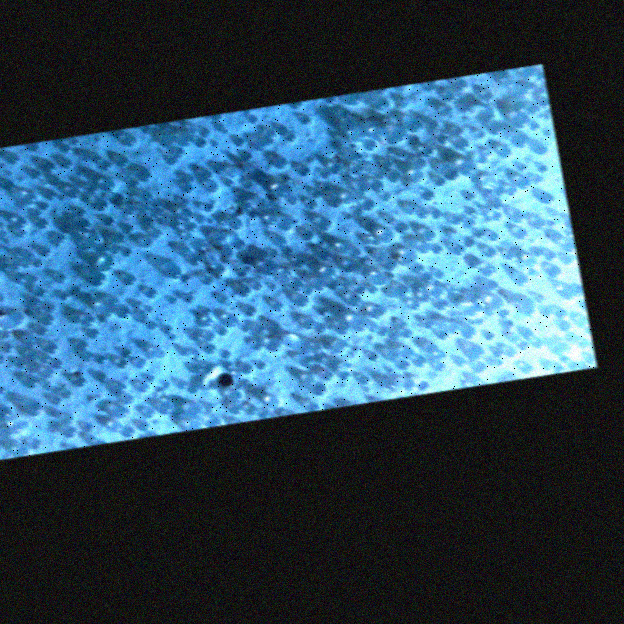GrassBeadSeg: (87, 102, 527, 438), (3, 87, 387, 443), (31, 177, 530, 449), (0, 127, 465, 418), (36, 122, 503, 411), (0, 154, 541, 393), (2, 94, 495, 353), (81, 121, 568, 361), (51, 165, 510, 406), (0, 160, 425, 417), (163, 91, 523, 388), (0, 143, 575, 328), (74, 115, 531, 346), (61, 127, 443, 398), (39, 184, 531, 390), (111, 139, 470, 417), (41, 162, 549, 354), (159, 135, 572, 362), (2, 192, 547, 363), (75, 125, 505, 340), (170, 152, 589, 365), (1, 97, 335, 360), (83, 248, 545, 431), (36, 120, 424, 336), (64, 188, 429, 411), (33, 259, 490, 432), (23, 116, 313, 388), (168, 80, 466, 340), (176, 158, 511, 389), (188, 147, 513, 384), (18, 117, 280, 408), (0, 138, 498, 283), (2, 181, 391, 357), (176, 164, 526, 358), (1, 216, 279, 456), (29, 174, 416, 346), (44, 100, 302, 355), (44, 192, 392, 377), (16, 148, 226, 450), (63, 156, 287, 437), (85, 133, 289, 426), (93, 166, 311, 436), (27, 204, 416, 354), (41, 170, 459, 304), (8, 260, 571, 359), (45, 190, 540, 302), (73, 257, 535, 373), (165, 157, 395, 388), (130, 179, 429, 355), (103, 219, 347, 432), (247, 92, 527, 276), (105, 194, 557, 305), (320, 180, 563, 385), (256, 199, 533, 370), (120, 301, 572, 403), (40, 193, 284, 377), (12, 273, 408, 385), (111, 193, 436, 329), (146, 147, 434, 297), (43, 207, 380, 335), (157, 170, 334, 413), (110, 127, 433, 260), (32, 270, 445, 374), (10, 260, 286, 414), (36, 257, 448, 360), (102, 217, 378, 368), (6, 134, 195, 352), (272, 130, 433, 384), (1, 293, 417, 390), (302, 232, 564, 385), (37, 218, 421, 321), (121, 115, 258, 402), (185, 225, 576, 323), (342, 123, 540, 316), (42, 169, 215, 382), (136, 307, 553, 392), (181, 187, 530, 286), (183, 171, 437, 299), (186, 286, 411, 429), (203, 207, 423, 353), (111, 232, 414, 338), (208, 113, 419, 264), (136, 92, 490, 182), (143, 285, 366, 426), (368, 126, 504, 357), (149, 134, 448, 239), (121, 95, 337, 232), (214, 169, 331, 418), (61, 161, 237, 326), (52, 324, 327, 424), (266, 187, 431, 351), (197, 82, 469, 181), (25, 207, 364, 285), (179, 133, 474, 222), (385, 128, 577, 264), (308, 200, 495, 339), (109, 186, 547, 243), (268, 236, 568, 317), (294, 245, 466, 383), (156, 229, 328, 362), (28, 170, 107, 446), (308, 140, 528, 239), (145, 247, 497, 306), (246, 211, 500, 291), (25, 179, 110, 416), (1, 217, 149, 353), (25, 294, 235, 387), (104, 252, 389, 316), (97, 218, 426, 273), (81, 314, 259, 415), (344, 92, 475, 228), (153, 185, 353, 274), (305, 141, 377, 377), (236, 211, 426, 296), (415, 205, 537, 334), (107, 308, 400, 361), (13, 218, 116, 368), (112, 254, 204, 417), (76, 160, 141, 385), (121, 260, 280, 350), (60, 377, 348, 425), (6, 130, 409, 164), (14, 229, 195, 303), (339, 209, 443, 329), (121, 134, 236, 242), (39, 321, 379, 357), (28, 309, 383, 343), (513, 86, 555, 371), (435, 105, 541, 215), (337, 244, 496, 315), (449, 113, 549, 225), (368, 170, 457, 294), (284, 175, 390, 278), (205, 203, 328, 291), (35, 184, 292, 226), (468, 194, 555, 315), (9, 374, 156, 445), (374, 98, 475, 200), (362, 311, 486, 393), (242, 280, 351, 373), (349, 95, 468, 175), (15, 230, 190, 283), (28, 137, 253, 178), (94, 134, 131, 382), (372, 104, 437, 242), (195, 125, 284, 224), (194, 216, 430, 253), (127, 130, 276, 188), (385, 85, 486, 161), (88, 273, 285, 311), (470, 266, 544, 365), (190, 242, 342, 290), (317, 199, 376, 314), (46, 314, 128, 396), (220, 199, 330, 260), (222, 355, 416, 389), (387, 273, 483, 340), (478, 89, 544, 186), (412, 134, 541, 183), (205, 281, 314, 338), (1, 148, 70, 238), (33, 153, 101, 244), (272, 183, 369, 246), (231, 362, 340, 418), (41, 314, 100, 417), (387, 329, 534, 370), (244, 230, 311, 316), (228, 211, 526, 230), (20, 250, 415, 264), (481, 130, 551, 209), (231, 190, 323, 250), (119, 307, 202, 371), (55, 262, 295, 284), (192, 260, 243, 361), (153, 371, 251, 423), (311, 297, 362, 395), (476, 187, 536, 266), (354, 160, 476, 196), (196, 342, 342, 372), (479, 212, 562, 264), (84, 234, 182, 278), (138, 305, 212, 361), (134, 358, 203, 418), (0, 312, 240, 329), (306, 199, 351, 289), (24, 153, 102, 203), (59, 158, 192, 187), (3, 329, 67, 388), (272, 161, 307, 268), (44, 342, 349, 353), (436, 289, 484, 357), (486, 69, 549, 120), (140, 160, 428, 171), (145, 125, 266, 151), (257, 320, 484, 333), (63, 125, 197, 147), (160, 129, 228, 172), (204, 338, 243, 412), (245, 178, 342, 207), (315, 218, 428, 240), (472, 215, 514, 274), (431, 257, 480, 307), (377, 259, 431, 300), (238, 255, 266, 333), (412, 330, 466, 370), (344, 150, 406, 181), (146, 377, 184, 424), (355, 248, 380, 319), (217, 203, 261, 243), (255, 129, 368, 143), (476, 340, 523, 372), (221, 198, 278, 224), (340, 110, 369, 161), (351, 248, 388, 285), (117, 307, 174, 331), (389, 357, 466, 373), (202, 275, 216, 353), (99, 156, 128, 190), (283, 276, 328, 291), (141, 200, 163, 226), (474, 292, 480, 367), (365, 164, 387, 179), (468, 293, 482, 315), (281, 250, 293, 275), (224, 360, 239, 378), (370, 160, 394, 169), (123, 204, 139, 214), (412, 355, 426, 366), (286, 247, 292, 248)
